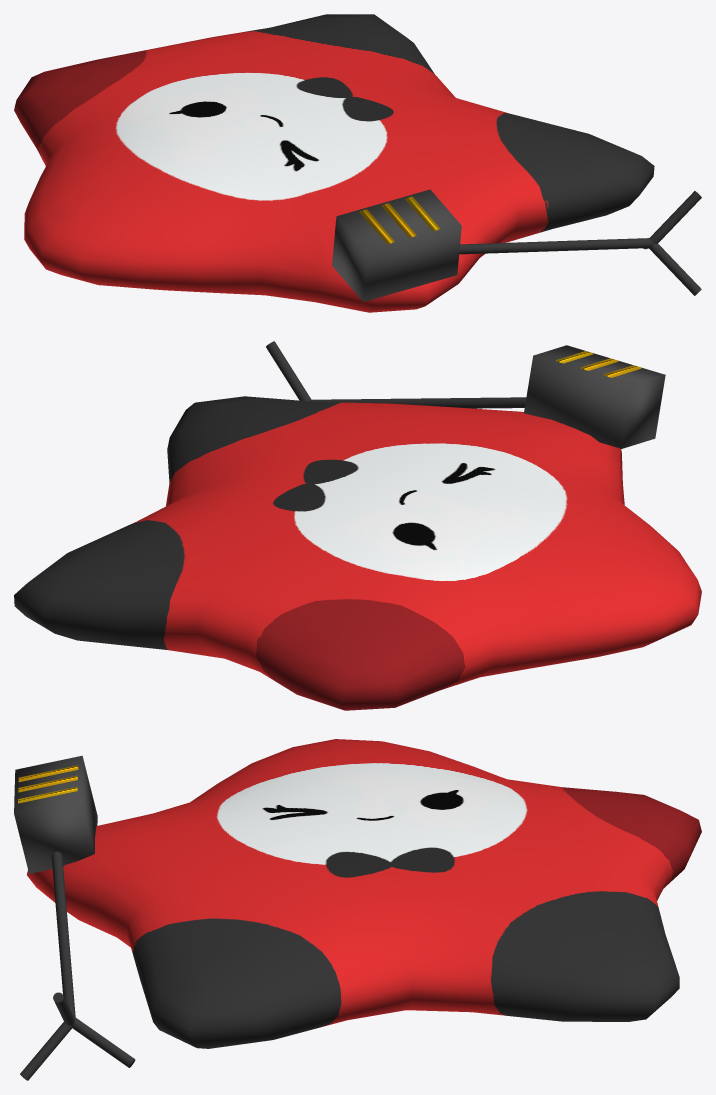
Rendered from star-M.glb.
3 views of the same model, one above another, from view 1: azimuth 30°, elevation 25°; view 2: azimuth 150°, elevation 25°; view 3: azimuth 270°, elevation 25° (orthographic). The views are drawn at different scales.
Parts seen in each view (by area): view 1: 球體.005, 立方體, 圓柱體, 圓柱體.001, 圓柱體.003; view 2: 球體.005, 立方體, 圓柱體, 圓柱體.001; view 3: 球體.005, 立方體, 圓柱體, 圓柱體.002, 圓柱體.003.
Boxes of the visible parts, left/top/right/bottom form: 球體.005: left=14, top=14, right=654, bottom=312; 立方體: left=332, top=189, right=461, bottom=301; 圓柱體: left=459, top=238, right=652, bottom=254; 圓柱體.001: left=650, top=191, right=701, bottom=244; 圓柱體.003: left=649, top=243, right=701, bottom=295; 球體.005: left=14, top=396, right=701, bottom=710; 立方體: left=524, top=345, right=665, bottom=448; 圓柱體: left=308, top=397, right=526, bottom=408; 圓柱體.001: left=266, top=341, right=311, bottom=401; 球體.005: left=27, top=739, right=701, bottom=1048; 立方體: left=14, top=755, right=97, bottom=873; 圓柱體: left=51, top=851, right=75, bottom=1017; 圓柱體.002: left=72, top=1017, right=135, bottom=1067; 圓柱體.003: left=20, top=1022, right=72, bottom=1080.
Size of the model in its own units: 4.25 by 1.08 by 4.33.
Materials: 9 (1 with a texture image).
